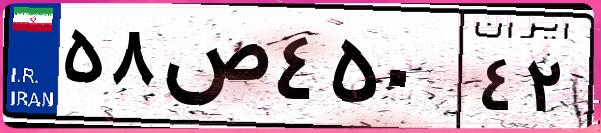0: (385, 28, 445, 110)
2: (525, 38, 570, 115)
4: (270, 28, 330, 110), (475, 38, 525, 113)
5: (330, 28, 385, 110), (57, 26, 110, 100)
8: (110, 28, 158, 98)
ص: (158, 20, 270, 120)
